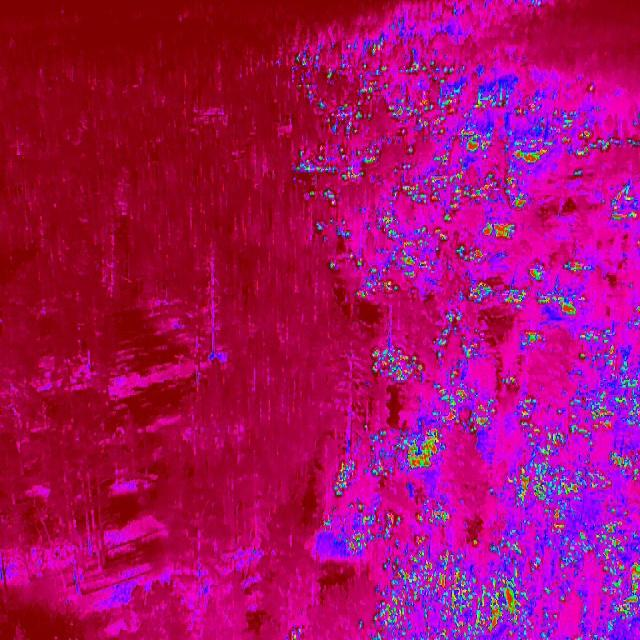fire: (285, 23, 640, 225), (310, 224, 601, 320), (320, 428, 454, 558), (508, 384, 612, 534), (368, 544, 528, 640), (526, 527, 640, 640), (568, 326, 640, 484), (430, 322, 506, 436), (368, 340, 428, 390), (511, 328, 550, 354), (284, 619, 305, 640)
